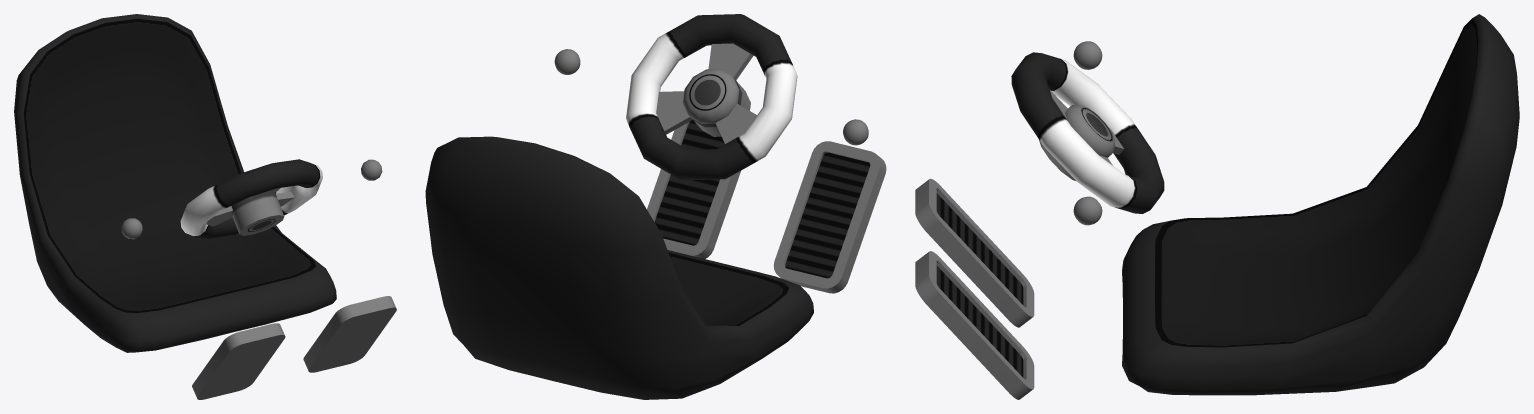
The model's file is seat visualizer 1.fbx.
3 renders of one model, left to right at view 1: azimuth 30°, elevation 25°; view 2: azimuth 150°, elevation 25°; view 3: azimuth 270°, elevation 25°, orthographic. The views are drawn at different scales.
Parts seen in each view (by area): view 1: Cylinder.002; view 2: Cylinder.002; view 3: Cylinder.002.
Boxes of the visible parts, x1=… form: Cylinder.002: x1=14, y1=14, x2=396, y2=399; Cylinder.002: x1=425, y1=14, x2=886, y2=399; Cylinder.002: x1=915, y1=14, x2=1519, y2=399.
Size of the model in its own units: 46.11 by 40.13 by 70.29.
